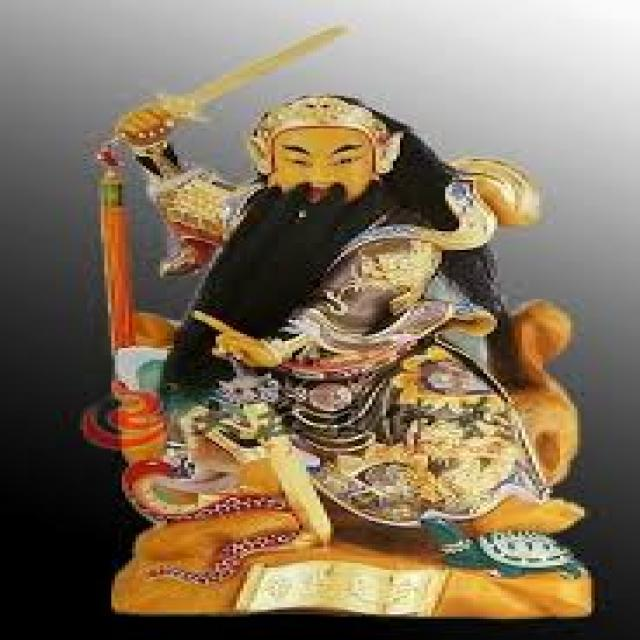Xuan wu: (67, 92, 615, 586)
